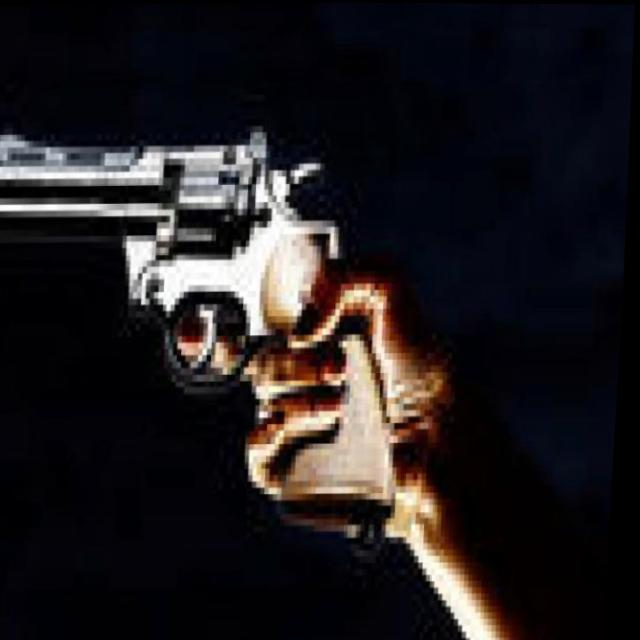weapon: (0, 111, 599, 640)
